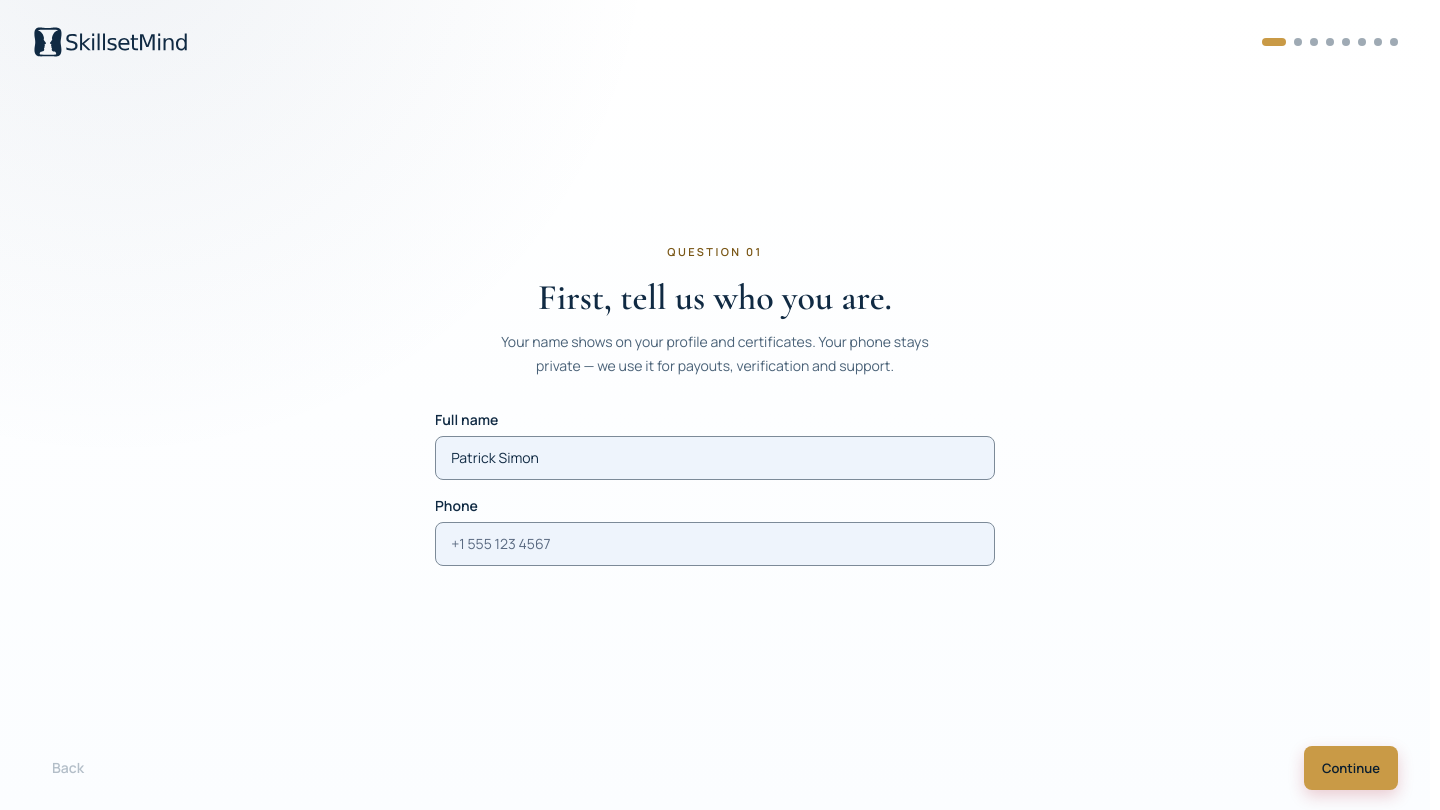
Test case: boas-vindas: o passo de perfil vem primeiro › professor: abre pedindo nome (ja preenchido) e telefone; sem telefone nao passa
Check: the heading "First, tell us who you are." is shown, box top-left (538, 276), bottom-right (892, 319)
Check: the field labelled "Full name" holds "Patrick Simon", box top-left (435, 436), bottom-right (995, 480)
Click the button "Continue".
click(1351, 768)  # box top-left (1304, 746), bottom-right (1398, 790)
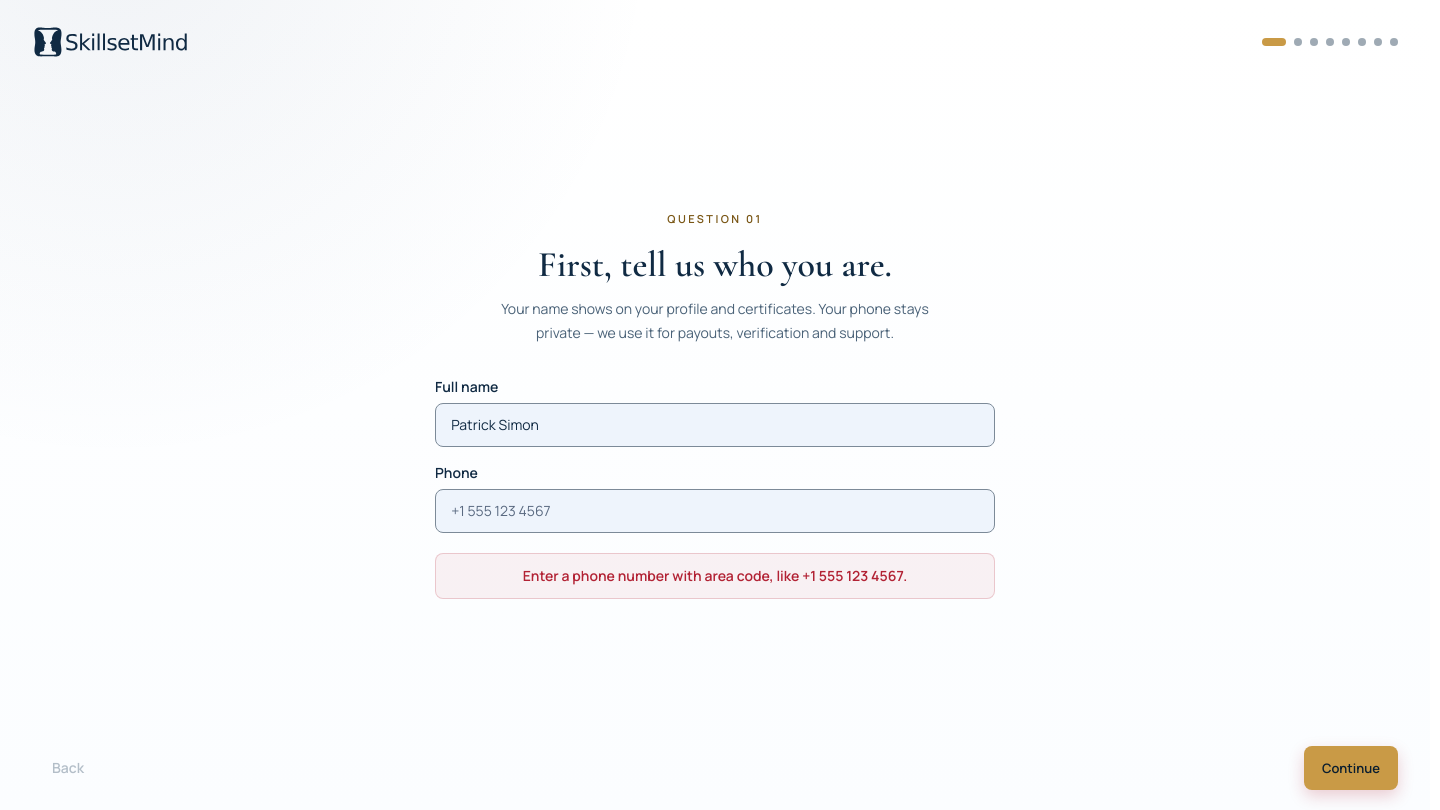
Check: the text "Enter a phone number with area code, like +1 555 123 4567." is shown, box top-left (435, 553), bottom-right (995, 599)
